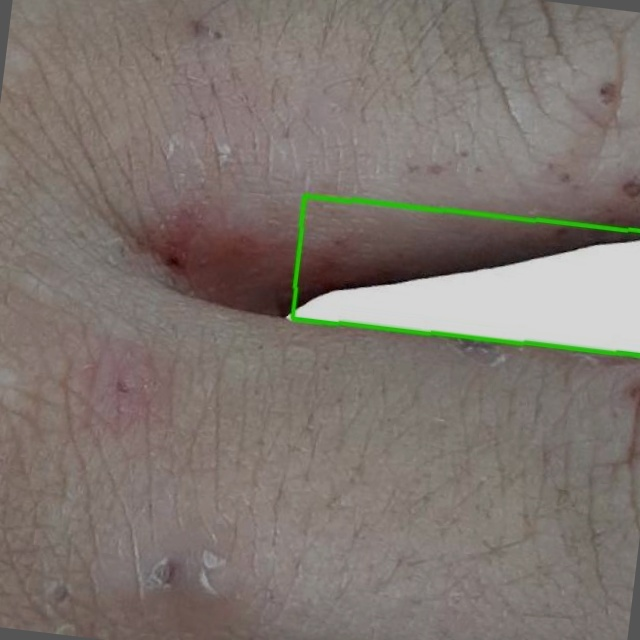Scabies: (292, 196, 639, 356)
